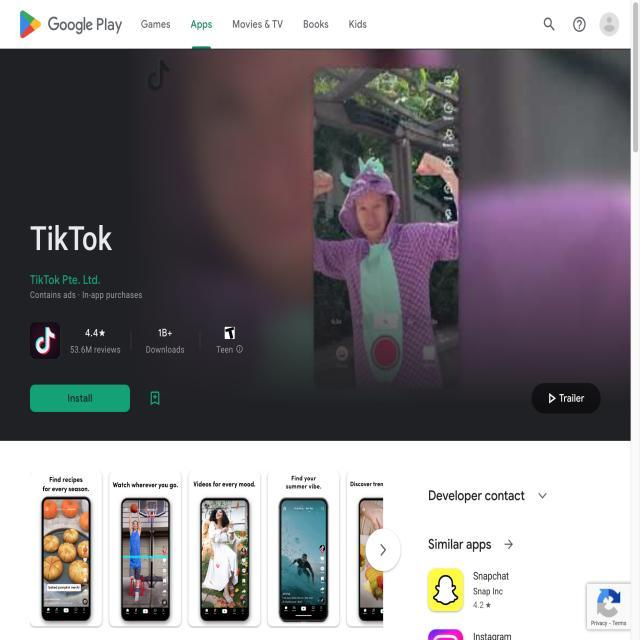button: (27, 384, 133, 417), (531, 380, 604, 420)
